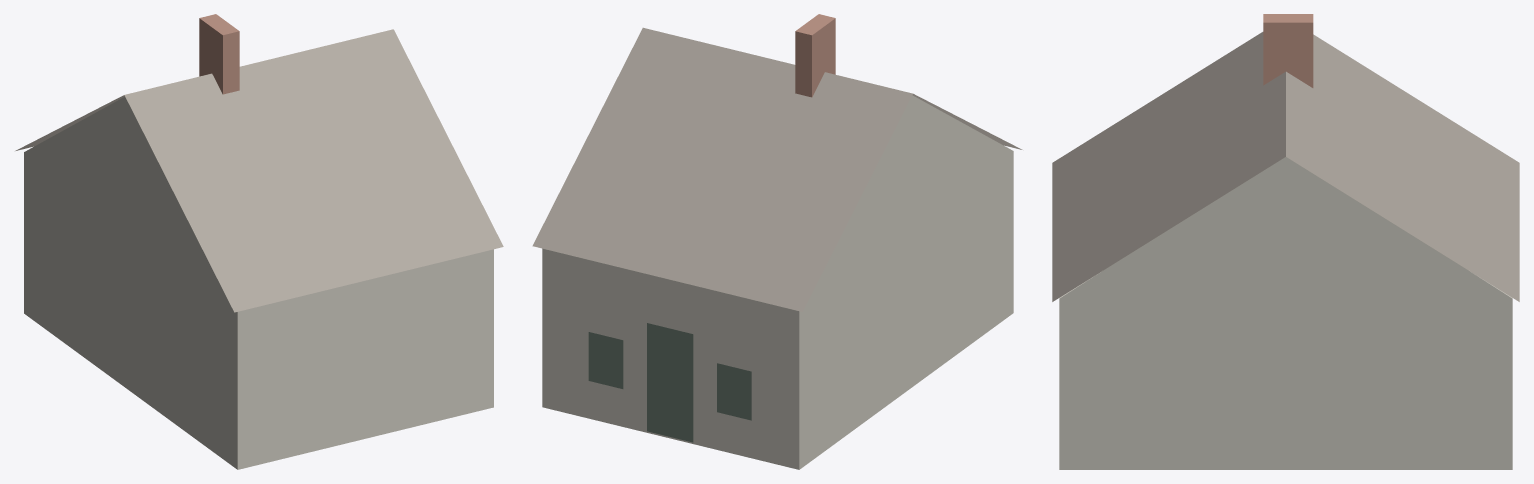
File: recon_1835_north_i2_015__recommended_1835.glb
3 renders of one model, left to right at view 1: azimuth 30°, elevation 25°; view 2: azimuth 150°, elevation 25°; view 3: azimuth 270°, elevation 25°, orthographic. The views are drawn at different scales.
Visible parts, largest first — view 1: recon_1835_north_i2_015__recommended_1835; view 2: recon_1835_north_i2_015__recommended_1835; view 3: recon_1835_north_i2_015__recommended_1835.
Part boxes in pixels (<box>): recon_1835_north_i2_015__recommended_1835: <box>15,14,503,469</box>; recon_1835_north_i2_015__recommended_1835: <box>532,14,1022,469</box>; recon_1835_north_i2_015__recommended_1835: <box>1052,14,1519,469</box>.
Size of the model in its own units: 5.77 by 7.05 by 8.17.
